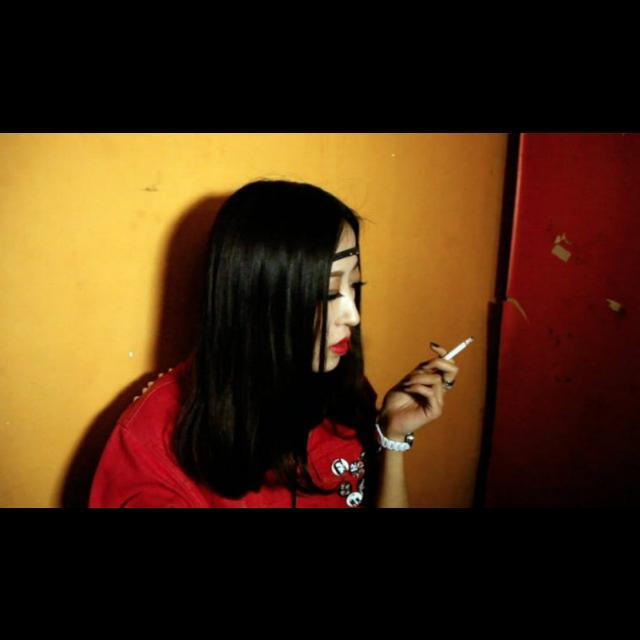rokok: (438, 336, 474, 362)
